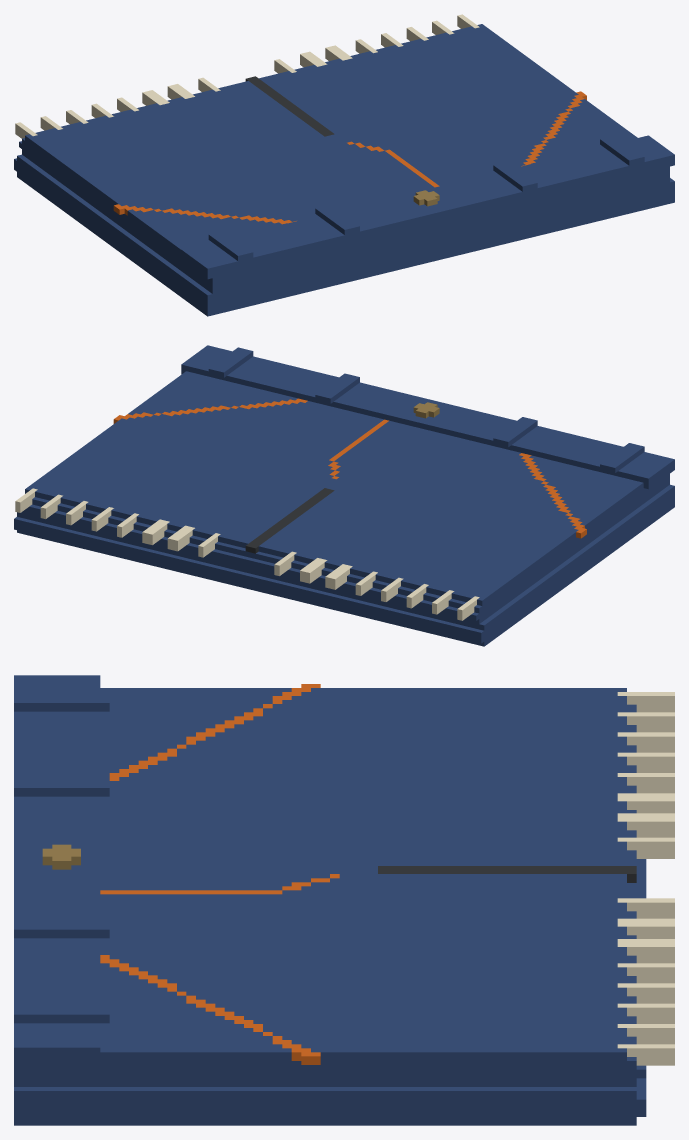
The model's file is shorts_denim.glb.
The picture shows the model from 3 angles, top to bottom: view 1: azimuth 30°, elevation 25°; view 2: azimuth 150°, elevation 25°; view 3: azimuth 270°, elevation 25°; orthographic projection. The views are drawn at different scales.
Parts seen in each view (by area): view 1: shorts_denim:compound; view 2: shorts_denim:compound; view 3: shorts_denim:compound.
Boxes of the visible parts, x1,y1,x2,y2 form: shorts_denim:compound: (14, 14, 674, 316); shorts_denim:compound: (14, 345, 674, 646); shorts_denim:compound: (14, 675, 674, 1125).
Size of the model in its own units: 0.368 by 0.04 by 0.276.
